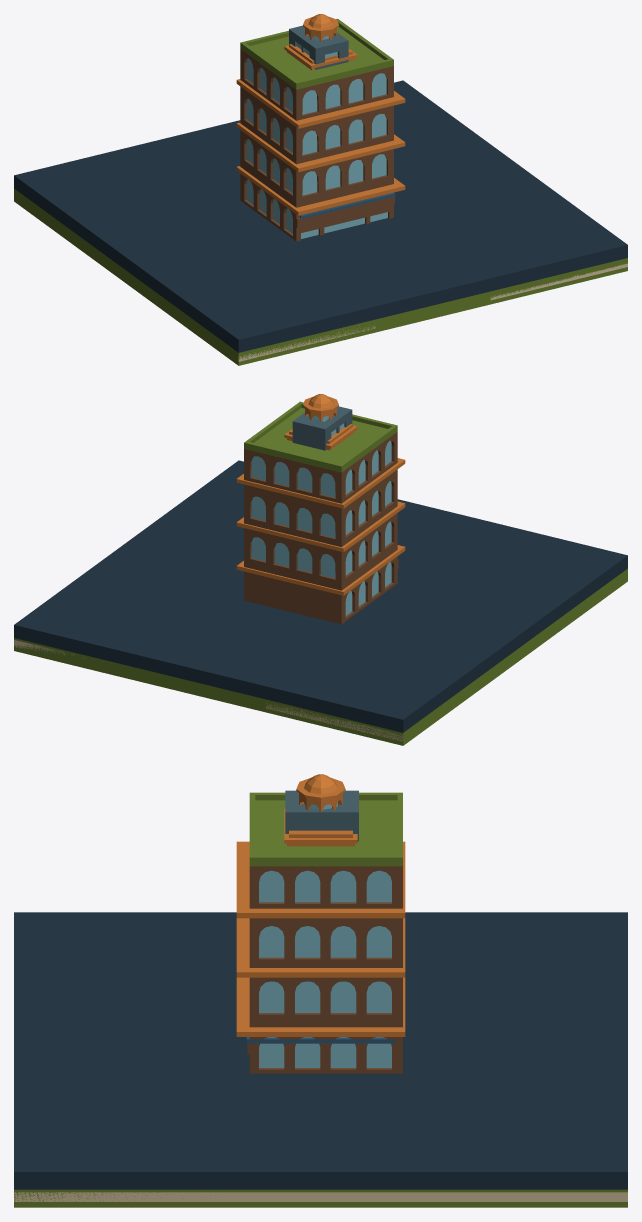
Rendered from Downtown Street Scene.fbx.
3 renders of one model, top to bottom at view 1: azimuth 30°, elevation 25°; view 2: azimuth 150°, elevation 25°; view 3: azimuth 270°, elevation 25°, orthographic. The views are drawn at different scales.
Visible parts, largest first — view 1: 11_Main_Platform.001, 5_Building.005, 4_Building.004, 19_Street_Isle.001; view 2: 11_Main_Platform.001, 5_Building.005, 4_Building.004, 19_Street_Isle.001; view 3: 11_Main_Platform.001, 5_Building.005, 19_Street_Isle.001, 4_Building.004, 15_Store.001.
Part boxes in pixels (box(x1,y1,x2,y2)): 11_Main_Platform.001: box(14, 80, 627, 365); 5_Building.005: box(236, 18, 405, 241); 4_Building.004: box(284, 14, 357, 70); 19_Street_Isle.001: box(238, 263, 627, 361); 11_Main_Platform.001: box(14, 460, 627, 745); 5_Building.005: box(236, 401, 405, 624); 4_Building.004: box(284, 394, 357, 450); 19_Street_Isle.001: box(14, 640, 403, 741); 11_Main_Platform.001: box(14, 912, 627, 1207); 5_Building.005: box(236, 790, 405, 1073); 19_Street_Isle.001: box(14, 1192, 627, 1201); 4_Building.004: box(284, 774, 357, 846); 15_Store.001: box(246, 1037, 395, 1043).
Size of the model in its own units: 841 by 458 by 841.
Materials: 1 (1 with a texture image).
